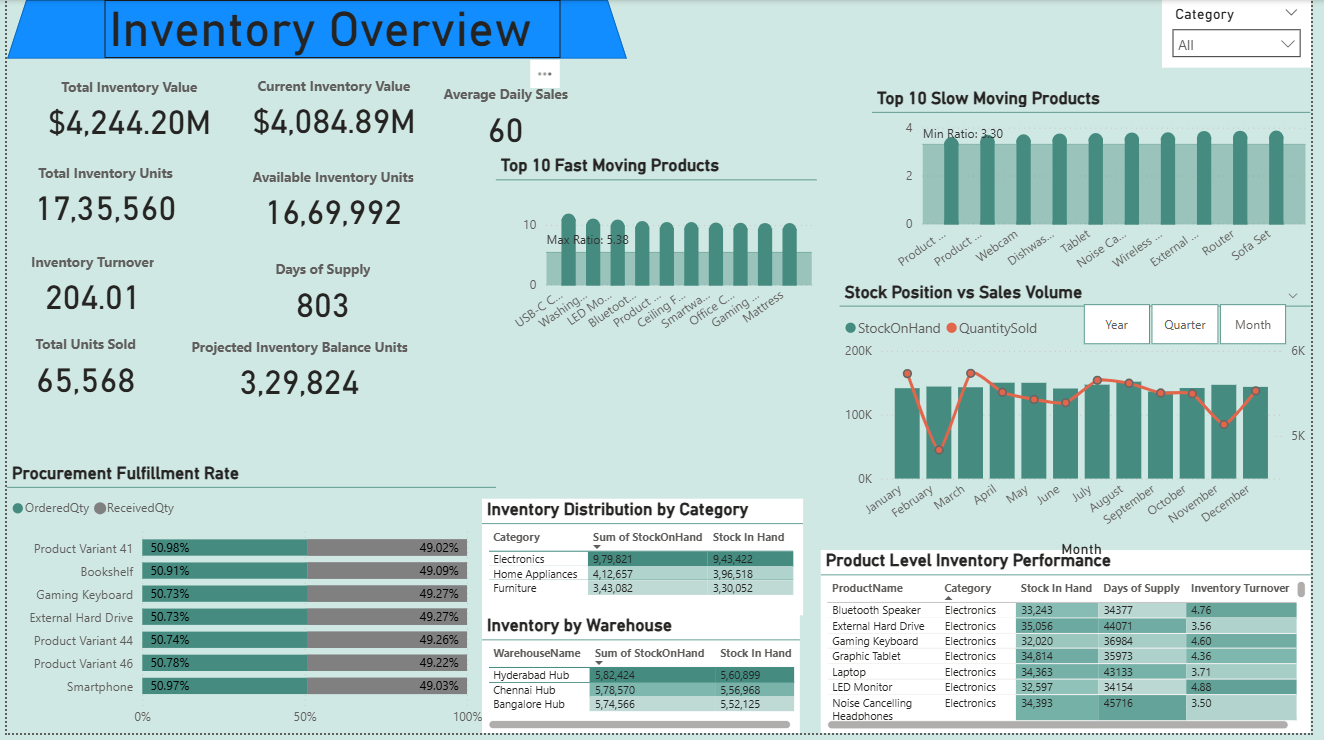

The dashboard page shown, as its layout file describes it:
{"tool":"powerbi","page":{"name":"Inventory Overview","canvas":[1280,720],"ordinal":1},"visuals":[{"type":"hundredPercentStackedBarChart","title":"Procurement Fulfillment Rate","fields":{"Category":["DimProduct.ProductName"],"Y":["Sum(FactPurchaseOrders.OrderedQty)","Sum(FactPurchaseOrders.ReceivedQty)"]},"box":[0,454,479.8,266.3],"z":0},{"type":"tableEx","title":"Product Level Inventory Performance","fields":{"Values":["DimProduct.ProductName","DimProduct.Category","DimDate.Stock In Hand","DimDate.Days of Supply (Days on Hand)","DimDate.Inventory Turnover Ratio"]},"box":[798.8,539.9,481,180.4],"z":1},{"type":"lineClusteredColumnComboChart","title":"Stock Position vs Sales Volume","fields":{"Category":["DimDate.YearMonth.Variation.Date Hierarchy.Year","DimDate.YearMonth.Variation.Date Hierarchy.Quarter","DimDate.YearMonth.Variation.Date Hierarchy.Month"],"Y2":["Sum(FactSales.QuantitySold)"],"Y":["Sum(FactInventorySnapshots.StockOnHand)"]},"box":[817.2,276.1,462.6,274.8],"z":2},{"type":"cardVisual","fields":{"Data":["DimDate.Total Stock"]},"box":[0,143.6,193.9,87.1],"z":3},{"type":"cardVisual","fields":{"Data":["DimDate.Stock In Hand"]},"box":[222.1,147.2,196.3,82.2],"z":4},{"type":"cardVisual","fields":{"Data":["DimDate.Total Sales Qty"]},"box":[0,311.7,154.6,94.5],"z":5},{"type":"cardVisual","fields":{"Data":["DimDate.Inventory Value : 1"]},"box":[0,58.3,240.5,90.8],"z":6},{"type":"cardVisual","fields":{"Data":["DimDate.Inventory Value (Stock In Hand)"]},"box":[209.8,57.1,222.1,93.3],"z":7},{"type":"cardVisual","fields":{"Data":["DimDate.Inventory Turnover Ratio"]},"box":[0,230.7,168.1,90.8],"z":8},{"type":"slicer","fields":{"Values":["DimProduct.Category"]},"box":[1133.7,0,146,66.3],"z":9},{"type":"cardVisual","fields":{"Data":["DimDate.Days of Supply"]},"box":[240.5,238,139.9,85.9],"z":10},{"type":"cardVisual","fields":{"Data":["DimDate.Avg Daily Sales"]},"box":[407.4,66.3,164.4,85.9],"z":11},{"type":"cardVisual","fields":{"Data":["DimDate.Projected Available Balance"]},"box":[154.6,314.1,265,92],"z":12},{"type":"slicer","fields":{"Values":["Parameter.Parameter"]},"box":[1030.7,283.4,249.1,61.4],"z":13},{"type":"shape","box":[0,0,608.6,57.7],"z":14},{"type":"textbox","title":"Inventory Overview","box":[95.7,0,447.9,57.7],"z":15},{"type":"clusteredColumnChart","title":"Top 10 Slow Moving Products","fields":{"Y":["DimDate.Inventory Turnover Ratio"],"Category":["DimProduct.ProductName"]},"box":[849.1,85.9,430.7,190.2],"z":16},{"type":"tableEx","title":"Inventory by Warehouse","fields":{"Values":["DimWarehouse.WarehouseName","Sum(FactInventorySnapshots.StockOnHand)","DimDate.Stock In Hand"]},"box":[466.3,603.7,311.7,116.6],"z":17},{"type":"tableEx","title":"Inventory Distribution by Category","fields":{"Values":["DimProduct.Category","Sum(FactInventorySnapshots.StockOnHand)","DimDate.Stock In Hand"]},"box":[466.3,489.6,315.3,114.1],"z":18},{"type":"clusteredColumnChart","title":"Top 10 Fast Moving Products","fields":{"Y":["DimDate.Inventory Turnover Ratio"],"Category":["DimProduct.ProductName"]},"box":[479.8,152.1,315.3,182.8],"z":19}]}

Visuals, with their boxes in screenshot pixels (x1, y1, x2, y2), scaled from the page's 1280x720 canvas onto the 1324x740 screenshot:
"Procurement Fulfillment Rate" hundredPercentStackedBarChart: BBox(0, 467, 496, 739)
"Product Level Inventory Performance" tableEx: BBox(826, 555, 1323, 739)
"Stock Position vs Sales Volume" lineClusteredColumnComboChart: BBox(845, 284, 1323, 566)
cardVisual - DimDate.Total Stock: BBox(0, 148, 201, 237)
cardVisual - DimDate.Stock In Hand: BBox(230, 151, 433, 236)
cardVisual - DimDate.Total Sales Qty: BBox(0, 320, 160, 417)
cardVisual - DimDate.Inventory Value : 1: BBox(0, 60, 249, 153)
cardVisual - DimDate.Inventory Value (Stock In Hand): BBox(217, 59, 447, 155)
cardVisual - DimDate.Inventory Turnover Ratio: BBox(0, 237, 174, 330)
slicer - DimProduct.Category: BBox(1173, 0, 1323, 68)
cardVisual - DimDate.Days of Supply: BBox(249, 245, 393, 333)
cardVisual - DimDate.Avg Daily Sales: BBox(421, 68, 591, 156)
cardVisual - DimDate.Projected Available Balance: BBox(160, 323, 434, 417)
slicer - Parameter.Parameter: BBox(1066, 291, 1323, 354)
shape: BBox(0, 0, 630, 59)
"Inventory Overview" textbox: BBox(99, 0, 562, 59)
"Top 10 Slow Moving Products" clusteredColumnChart: BBox(878, 88, 1323, 284)
"Inventory by Warehouse" tableEx: BBox(482, 620, 805, 739)
"Inventory Distribution by Category" tableEx: BBox(482, 503, 808, 620)
"Top 10 Fast Moving Products" clusteredColumnChart: BBox(496, 156, 822, 344)
